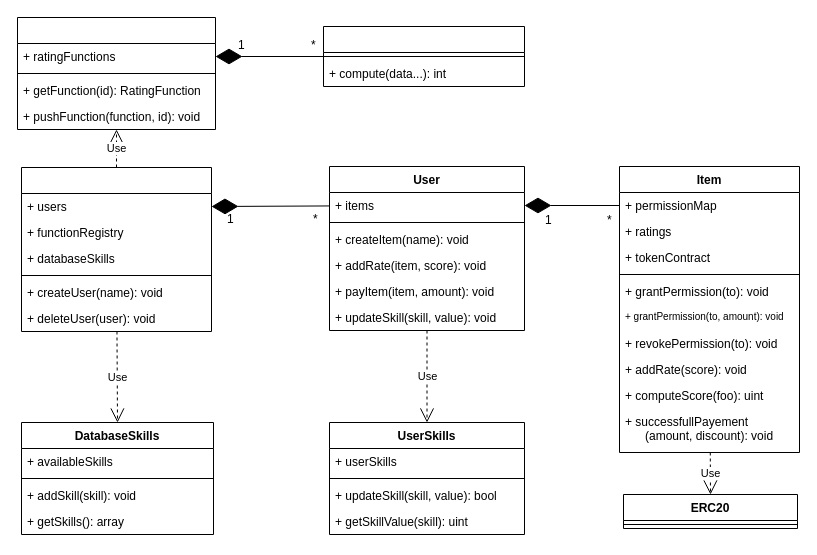
Image size: 817x555. Some labels were removed from this diagram. The shapes that lost their labels are listed below. From the top down, each one's box as (x1, y1, x2, y2) in pixels, then its label:
(16, 16, 216, 130): FunctionRegistry
(322, 26, 524, 86): RatingFunction
(20, 166, 212, 332): RatingSystemFramework
